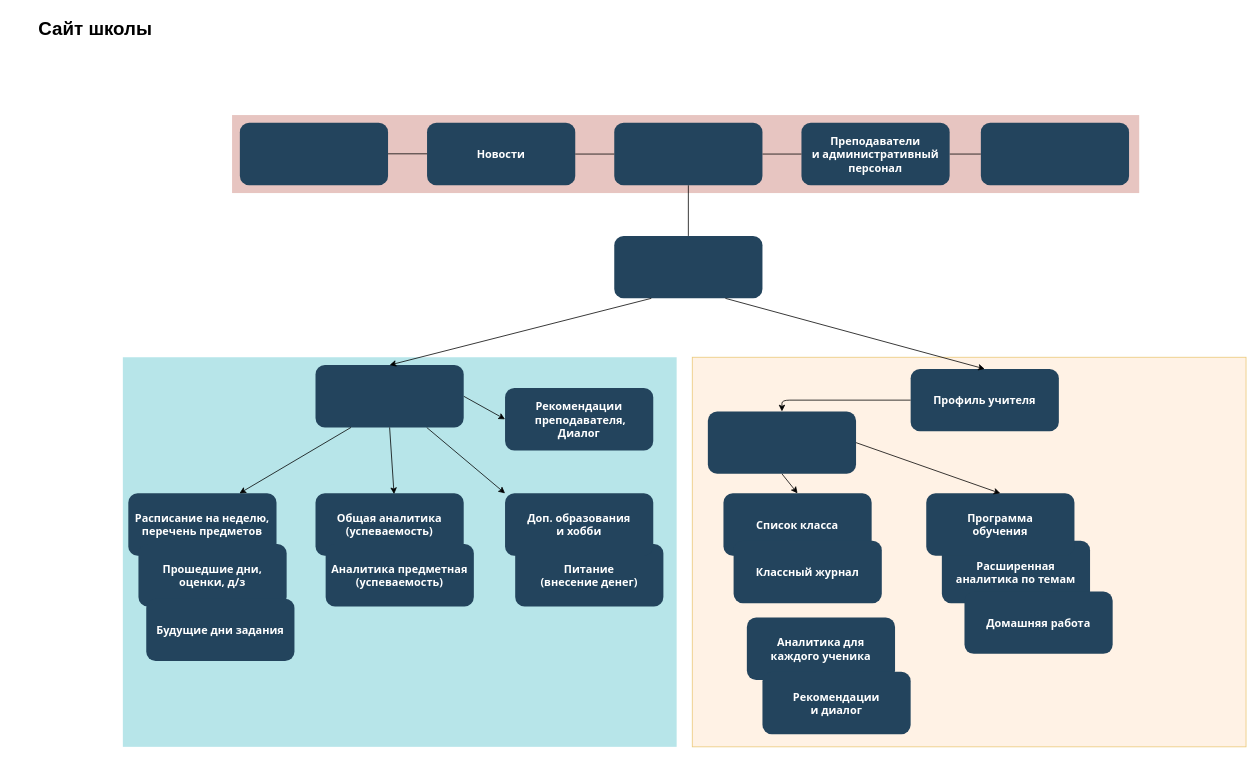
This 1260x761 diagram has some shape labels left out. The centre of each missing label's shape, as x and y in pixels:
"FAQ, контакты" goes at (x=1054, y=153).
"Авторизация" goes at (x=688, y=267).
"Главная" goes at (x=313, y=153).
"Мероприятия" goes at (x=688, y=153).
"Прикрепленные классы" goes at (x=781, y=442).
"Профиль ученика" goes at (x=389, y=396).
